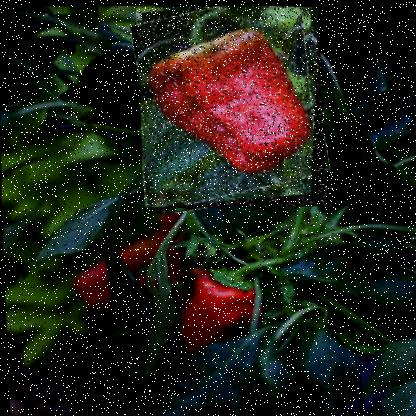capsicum: (136, 2, 329, 213)
